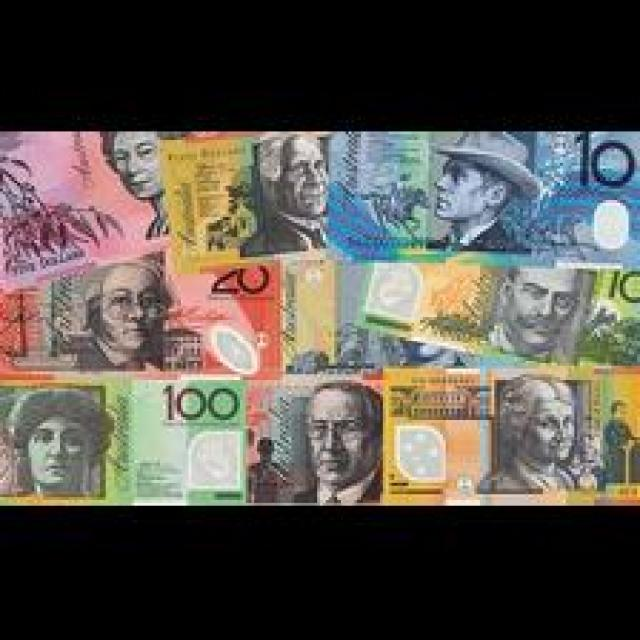banknote: (330, 131, 638, 267), (0, 128, 243, 294), (385, 373, 640, 502), (4, 265, 280, 381), (278, 267, 586, 370), (143, 374, 381, 503), (357, 265, 640, 369), (155, 128, 327, 264), (0, 384, 140, 499)
